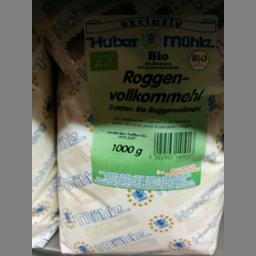flour: (52, 28, 222, 252)
